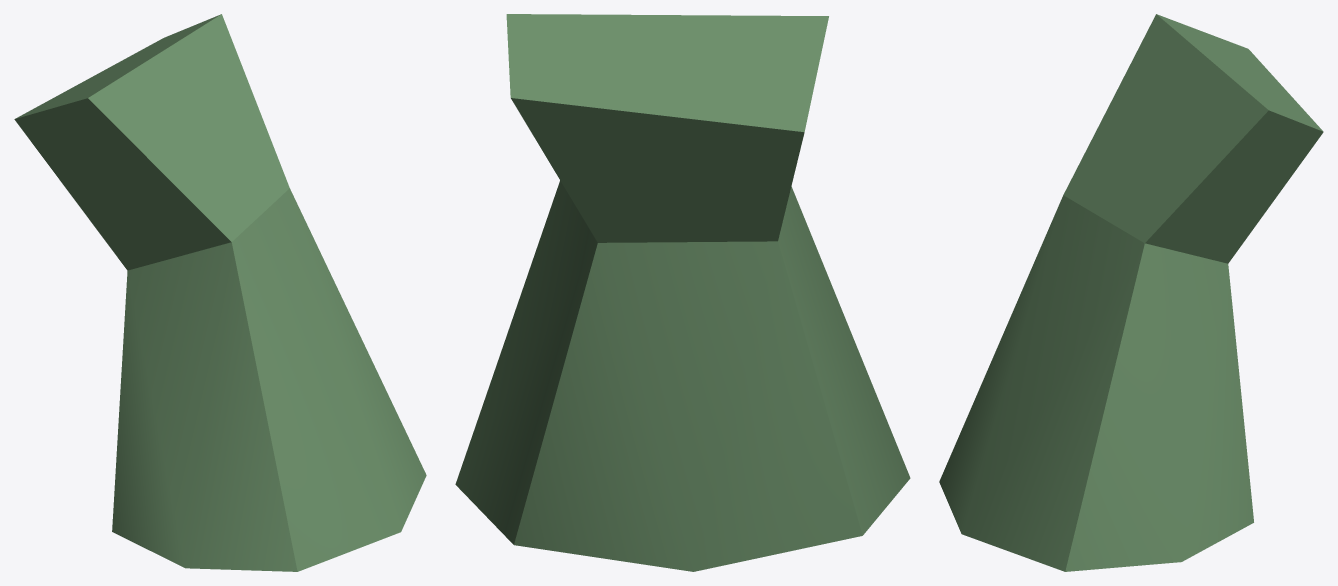
File: RightFrontLeg.fbx
The picture shows the model from 3 angles, left to right: view 1: azimuth 30°, elevation 25°; view 2: azimuth 150°, elevation 25°; view 3: azimuth 270°, elevation 25°; orthographic projection. The views are drawn at different scales.
Parts seen in each view (by area): view 1: RightFront1; view 2: RightFront1; view 3: RightFront1.
Part boxes in pixels (x1,y1,x2,y2): RightFront1: (14, 14, 426, 571); RightFront1: (455, 14, 910, 571); RightFront1: (939, 14, 1323, 571).
Bounding box in the file's own units: 0.4071 × 0.5083 × 0.4233.
